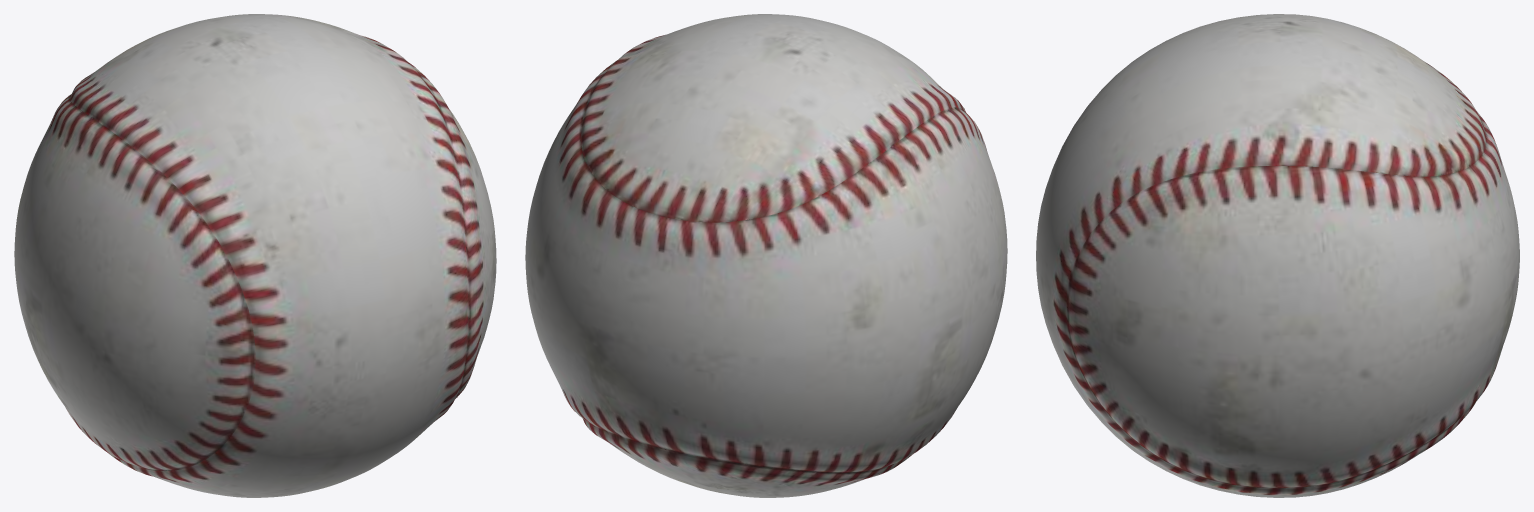
File: ph_baseball_01.glb
The picture shows the model from 3 angles, left to right: view 1: azimuth 30°, elevation 25°; view 2: azimuth 150°, elevation 25°; view 3: azimuth 270°, elevation 25°; orthographic projection.
Parts seen in each view (by area): view 1: baseball_01; view 2: baseball_01; view 3: baseball_01.
Part boxes in pixels (x1,y1,x2,y2): baseball_01: (14,14,496,497); baseball_01: (525,14,1007,497); baseball_01: (1036,14,1519,497).
Bounding box in the file's own units: 0.0735 × 0.0753 × 0.0752.
1 material, 1 textured.
